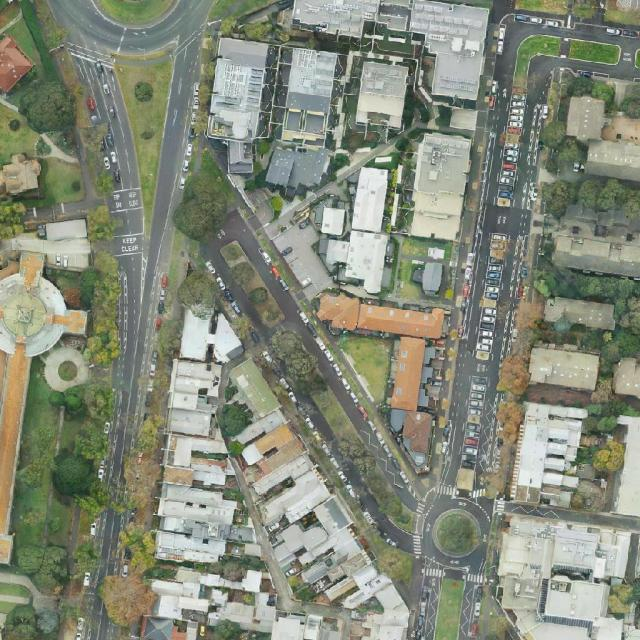building: (200, 37, 410, 207), (191, 355, 334, 536), (284, 0, 490, 101), (249, 469, 383, 617), (307, 292, 445, 413), (152, 407, 246, 569), (323, 164, 398, 294), (141, 567, 276, 639), (509, 400, 588, 509), (408, 132, 473, 242), (0, 341, 31, 563), (0, 254, 66, 356), (10, 219, 93, 277), (166, 358, 221, 438), (526, 338, 602, 391), (179, 310, 247, 366), (386, 409, 433, 472), (543, 295, 617, 332), (615, 416, 640, 516), (309, 194, 349, 236), (19, 252, 44, 286), (54, 310, 88, 334)
greenland: (9, 375, 115, 597), (96, 50, 173, 220), (44, 248, 145, 375), (0, 0, 86, 144), (168, 148, 249, 248), (333, 428, 410, 522), (261, 321, 336, 403), (99, 530, 155, 626), (578, 377, 631, 475), (122, 414, 164, 525), (542, 178, 640, 219), (503, 24, 567, 80), (171, 267, 229, 324), (537, 117, 589, 173), (226, 256, 276, 310), (432, 509, 480, 558), (372, 542, 421, 587), (0, 100, 39, 155), (434, 576, 466, 640), (42, 156, 83, 203), (99, 1, 174, 23), (567, 38, 622, 67), (88, 205, 120, 241), (0, 202, 26, 239), (37, 610, 60, 634)
metalled_road: (79, 29, 225, 500), (308, 350, 419, 504), (247, 245, 321, 359), (357, 501, 429, 563), (437, 478, 506, 542), (406, 479, 457, 564), (193, 204, 245, 281), (89, 505, 130, 583), (226, 278, 275, 342), (457, 558, 494, 640), (218, 214, 273, 265), (416, 557, 444, 640), (305, 391, 336, 445), (456, 535, 489, 576), (341, 460, 372, 499), (414, 535, 421, 557)
